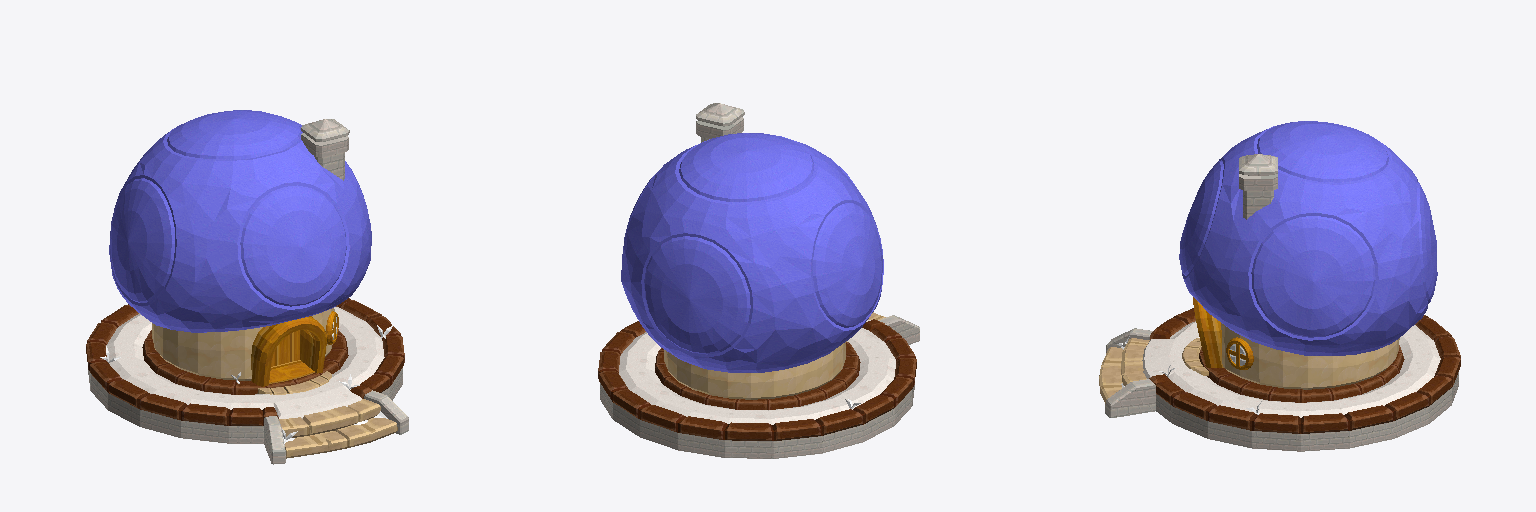
3 views of the same model, side by side, from view 1: azimuth 30°, elevation 25°; view 2: azimuth 150°, elevation 25°; view 3: azimuth 270°, elevation 25° (orthographic).
Visible parts, largest first — view 1: KinopioHouseRed.007_ID114, KinopioHouseRed.005_ID94, KinopioHouseRed_ID46, KinopioHouseRed.001_ID56, KinopioHouseRed.002_ID66, KinopioHouseRed.008_ID124, KinopioHouseRed.003_ID76, KinopioHouseRed.006_ID104; view 2: KinopioHouseRed.007_ID114, KinopioHouseRed.005_ID94, KinopioHouseRed_ID46, KinopioHouseRed.002_ID66, KinopioHouseRed.001_ID56, KinopioHouseRed.006_ID104; view 3: KinopioHouseRed.007_ID114, KinopioHouseRed.005_ID94, KinopioHouseRed_ID46, KinopioHouseRed.002_ID66, KinopioHouseRed.001_ID56, KinopioHouseRed.006_ID104, KinopioHouseRed.008_ID124, KinopioHouseRed.003_ID76.
Part boxes in pixels (left/top/right/bottom): KinopioHouseRed.007_ID114: left=109, top=121, right=371, bottom=332; KinopioHouseRed.005_ID94: left=110, top=110, right=367, bottom=306; KinopioHouseRed_ID46: left=86, top=298, right=404, bottom=425; KinopioHouseRed.001_ID56: left=106, top=307, right=384, bottom=418; KinopioHouseRed.002_ID66: left=88, top=119, right=408, bottom=464; KinopioHouseRed.008_ID124: left=257, top=371, right=397, bottom=458; KinopioHouseRed.003_ID76: left=251, top=311, right=338, bottom=386; KinopioHouseRed.006_ID104: left=152, top=308, right=334, bottom=380; KinopioHouseRed.007_ID114: left=621, top=134, right=883, bottom=372; KinopioHouseRed.005_ID94: left=623, top=133, right=882, bottom=354; KinopioHouseRed_ID46: left=598, top=319, right=916, bottom=440; KinopioHouseRed.002_ID66: left=600, top=103, right=919, bottom=458; KinopioHouseRed.001_ID56: left=619, top=320, right=895, bottom=424; KinopioHouseRed.006_ID104: left=664, top=341, right=846, bottom=399; KinopioHouseRed.007_ID114: left=1182, top=126, right=1427, bottom=355; KinopioHouseRed.005_ID94: left=1179, top=121, right=1437, bottom=337; KinopioHouseRed_ID46: left=1149, top=308, right=1460, bottom=433; KinopioHouseRed.002_ID66: left=1105, top=154, right=1458, bottom=451; KinopioHouseRed.001_ID56: left=1142, top=321, right=1440, bottom=417; KinopioHouseRed.006_ID104: left=1221, top=323, right=1399, bottom=389; KinopioHouseRed.008_ID124: left=1099, top=338, right=1208, bottom=403; KinopioHouseRed.003_ID76: left=1193, top=297, right=1253, bottom=369.
Bounding box in the file's own units: 849 × 765 × 960.
Materials: 10 (7 with a texture image).